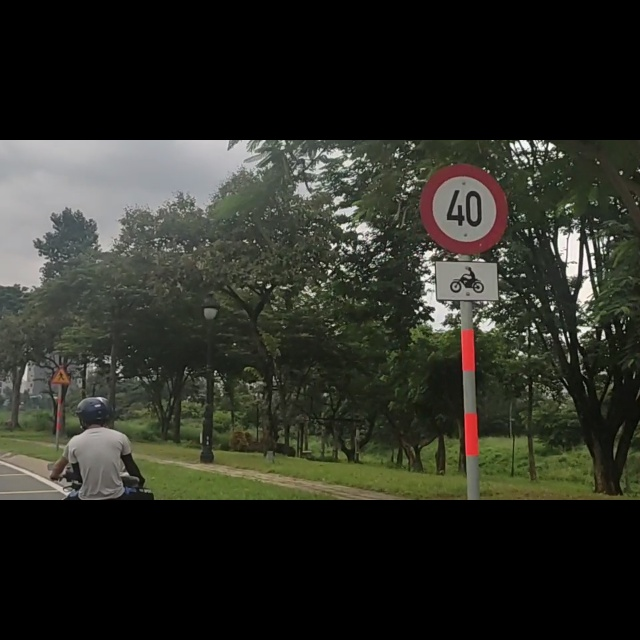bien_nguy_hiem: (420, 41, 509, 201), (51, 402, 72, 433)
